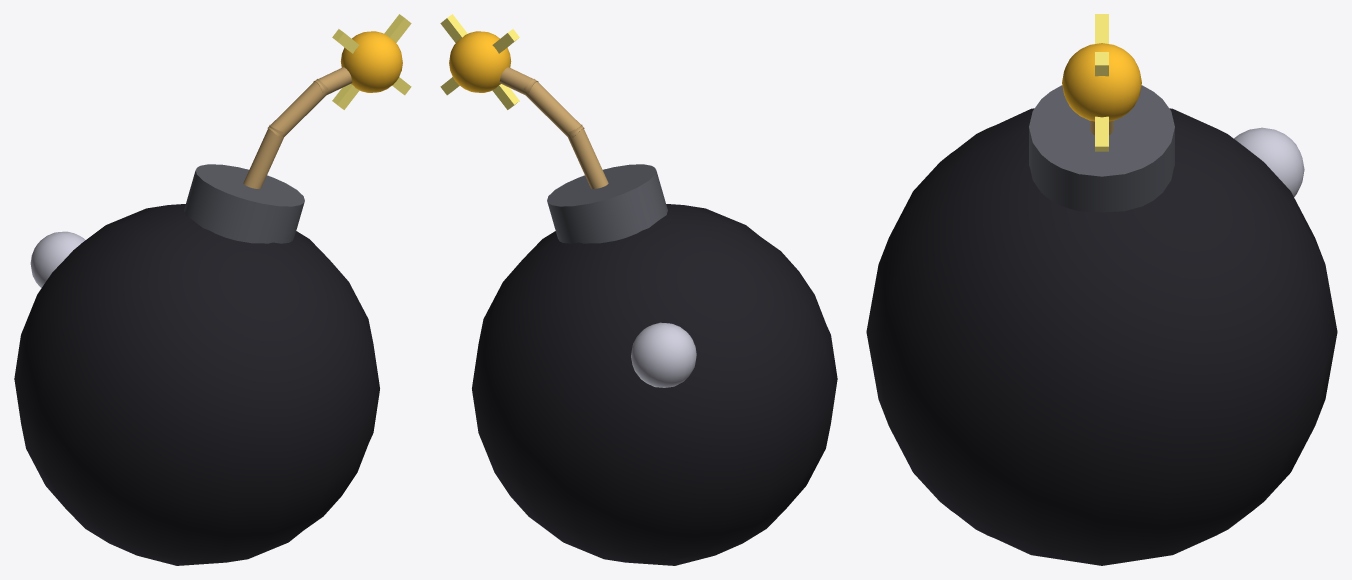
The model's file is bomb.obj.
3 renders of one model, left to right at view 1: azimuth 30°, elevation 25°; view 2: azimuth 150°, elevation 25°; view 3: azimuth 270°, elevation 25°, orthographic. The views are drawn at different scales.
Parts seen in each view (by area): view 1: Body, Cap, Spark, Shine, Fuse2, Fuse1, SparkX, Fuse3, SparkY; view 2: Body, Cap, Shine, Spark, Fuse2, Fuse1, SparkX, Fuse3, SparkY; view 3: Body, Cap, Spark, Shine, SparkY.
Part boxes in pixels (x1=…): Body: x1=14, y1=204, x2=379, y2=565; Cap: x1=184, y1=164, x2=304, y2=243; Spark: x1=340, y1=31, x2=402, y2=92; Shine: x1=30, y1=231, x2=85, y2=287; Fuse2: x1=267, y1=79, x2=327, y2=137; Fuse1: x1=243, y1=124, x2=283, y2=188; SparkX: x1=332, y1=14, x2=411, y2=109; Fuse3: x1=313, y1=67, x2=352, y2=94; SparkY: x1=332, y1=29, x2=411, y2=95; Body: x1=472, y1=204, x2=837, y2=565; Cap: x1=547, y1=164, x2=667, y2=243; Shine: x1=631, y1=322, x2=696, y2=387; Spark: x1=449, y1=31, x2=511, y2=92; Fuse2: x1=524, y1=79, x2=584, y2=137; Fuse1: x1=568, y1=124, x2=608, y2=188; SparkX: x1=440, y1=14, x2=519, y2=109; Fuse3: x1=499, y1=67, x2=538, y2=94; SparkY: x1=440, y1=29, x2=519, y2=95; Body: x1=866, y1=108, x2=1337, y2=565; Cap: x1=1029, y1=85, x2=1174, y2=212; Spark: x1=1062, y1=43, x2=1141, y2=121; Shine: x1=1234, y1=127, x2=1304, y2=196; SparkY: x1=1095, y1=14, x2=1108, y2=151.
Size of the model in its own units: 2.33 by 2.91 by 2.
